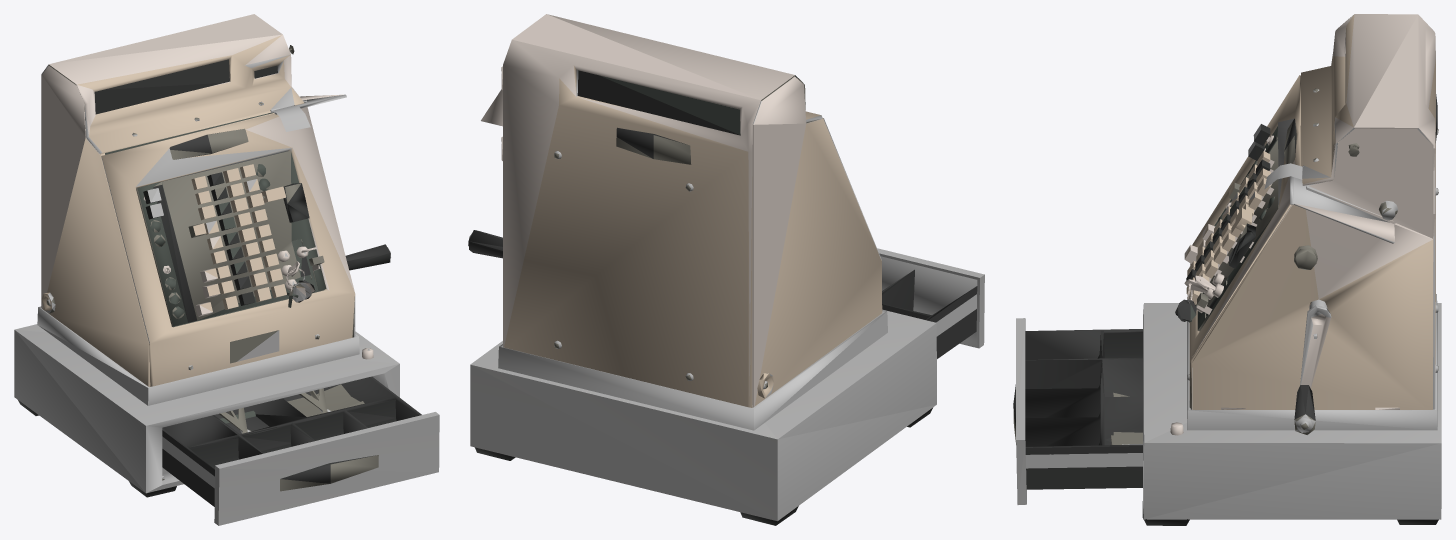
File: cash-register.glb
The picture shows the model from 3 angles, left to right: view 1: azimuth 30°, elevation 25°; view 2: azimuth 150°, elevation 25°; view 3: azimuth 270°, elevation 25°; orthographic projection. The views are drawn at different scales.
Parts seen in each view (by area): view 1: cash-register; view 2: cash-register; view 3: cash-register.
Part boxes in pixels (box(x1,y1,x2,y2)): cash-register: box(14, 14, 439, 525); cash-register: box(468, 14, 984, 525); cash-register: box(1013, 14, 1441, 525).
Bounding box in the file's own units: 0.5982 × 0.6202 × 0.6227.
